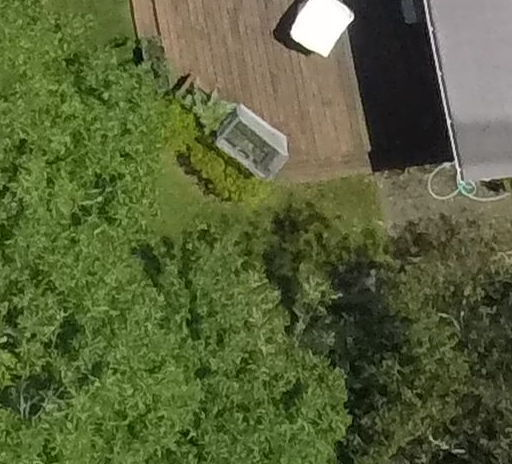container: (208, 99, 299, 185)
hose: (424, 150, 512, 207)
